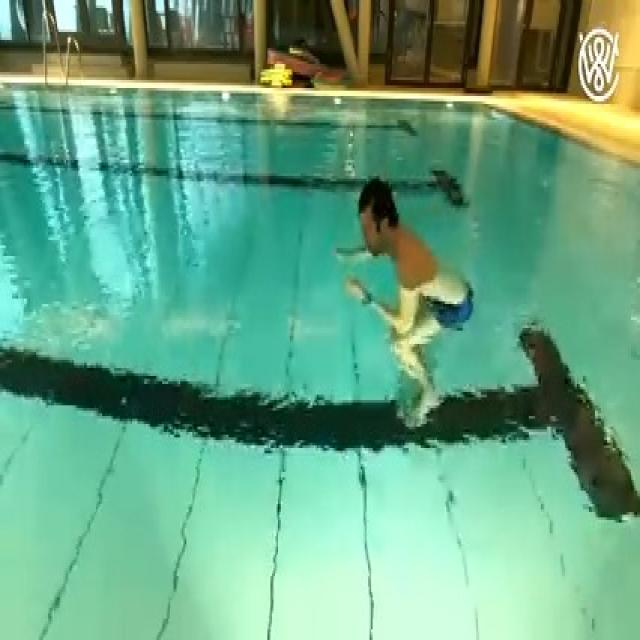Swimming: (330, 172, 479, 436)
